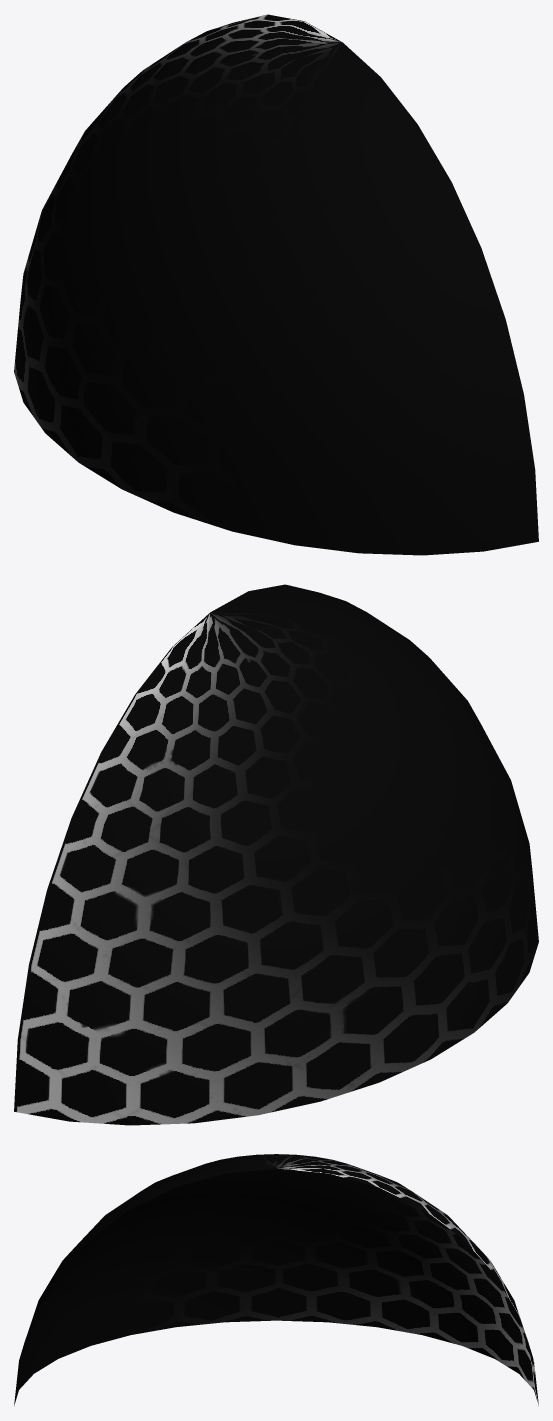
Rendered from huzhao_ban_uv.FBX.
3 views of the same model, one above another, from view 1: azimuth 30°, elevation 25°; view 2: azimuth 150°, elevation 25°; view 3: azimuth 270°, elevation 25° (orthographic). The views are drawn at different scales.
Parts seen in each view (by area): view 1: Sphere001; view 2: Sphere001; view 3: Sphere001.
Boxes of the visible parts, x1,y1,x2,y2 form: Sphere001: (14, 14, 538, 555); Sphere001: (14, 584, 538, 1125); Sphere001: (14, 1154, 538, 1405).
Size of the model in its own units: 27.46 by 35.33 by 70.66.
